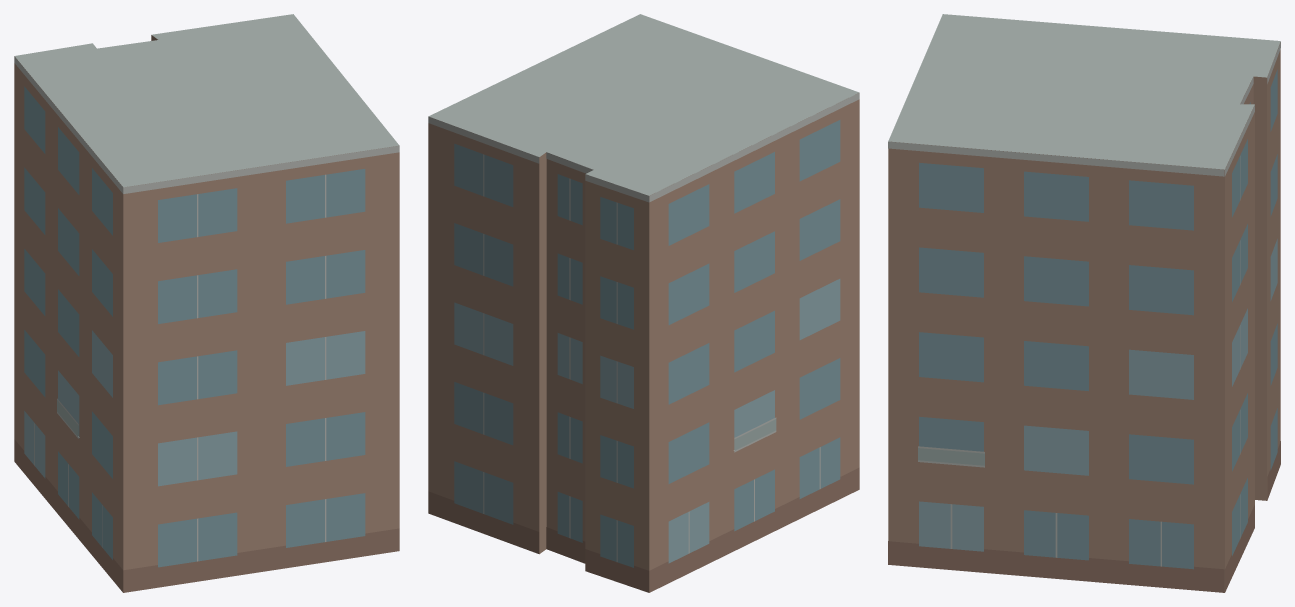
File: survey-upis-32528049.glb
3 renders of one model, left to right at view 1: azimuth 30°, elevation 25°; view 2: azimuth 150°, elevation 25°; view 3: azimuth 270°, elevation 25°, orthographic. The views are drawn at different scales.
Visible parts, largest first — view 1: survey-upis-32528049.tmp; view 2: survey-upis-32528049.tmp; view 3: survey-upis-32528049.tmp.
Part boxes in pixels (x1=…): survey-upis-32528049.tmp: x1=14, y1=14, x2=399, y2=592; survey-upis-32528049.tmp: x1=428, y1=14, x2=859, y2=592; survey-upis-32528049.tmp: x1=888, y1=14, x2=1280, y2=592.
Bounding box in the file's own units: 11.52 × 14.6 × 12.28.
